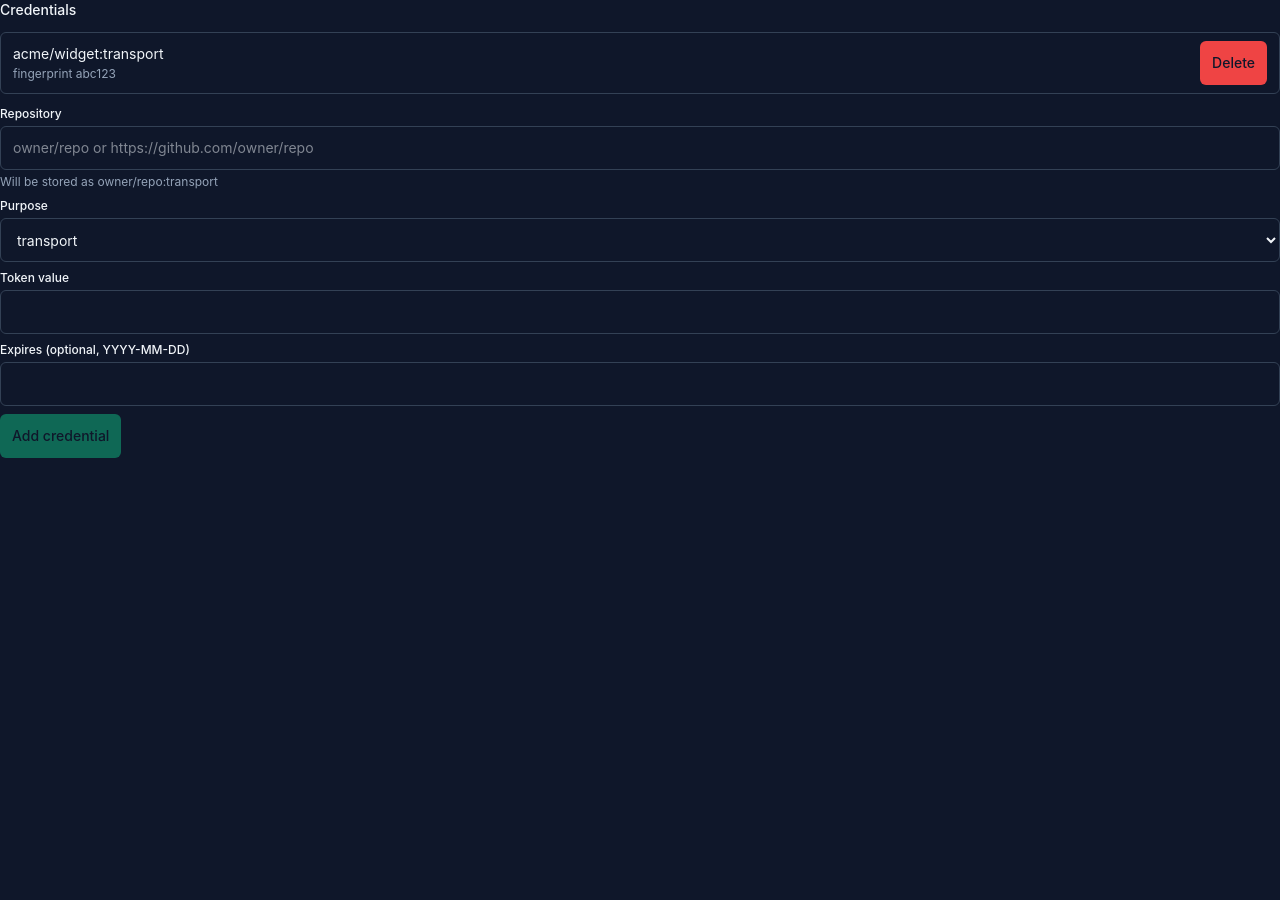
Scenario: CredentialsSection › delete: opens a confirm dialog, cancel leaves the record, confirm deletes with engine/purpose split from the name
Check: the list item with test id "credential-row-acme/widget:transport" is shown, box 0,32 -> 1279,94
What coordinates should you click on to do the following:
click the button with test id "credential-row-acme/widget:transport-delete"
I would click on:
 (1234, 63)
Its box is 1200,41 -> 1267,85.
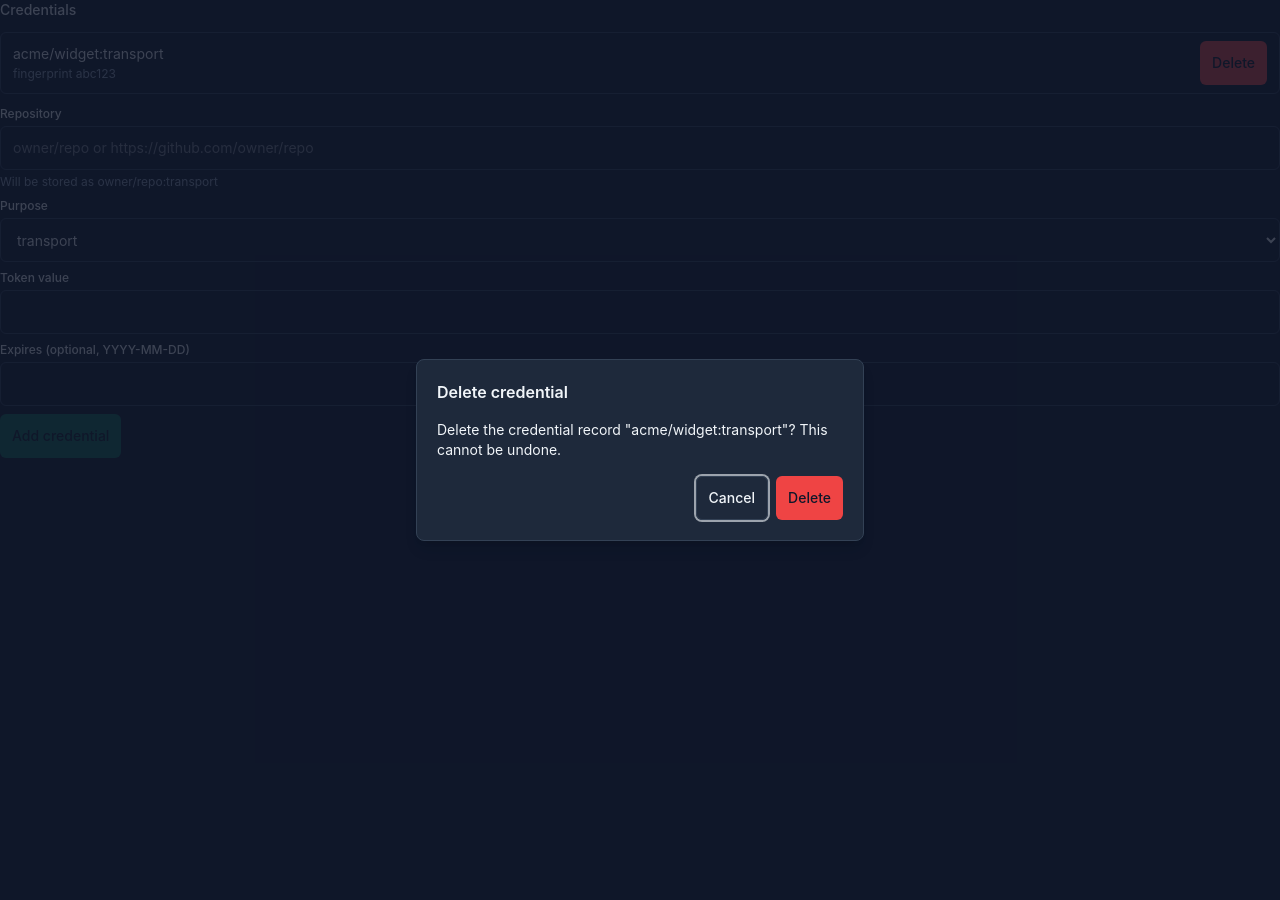
Check: the dialog with test id "credential-delete-confirm" is shown, box 416,359 -> 864,541
What coordinates should you click on to do the following:
click the button "Cancel"
I would click on:
 (732, 498)
Its box is 696,476 -> 768,520.
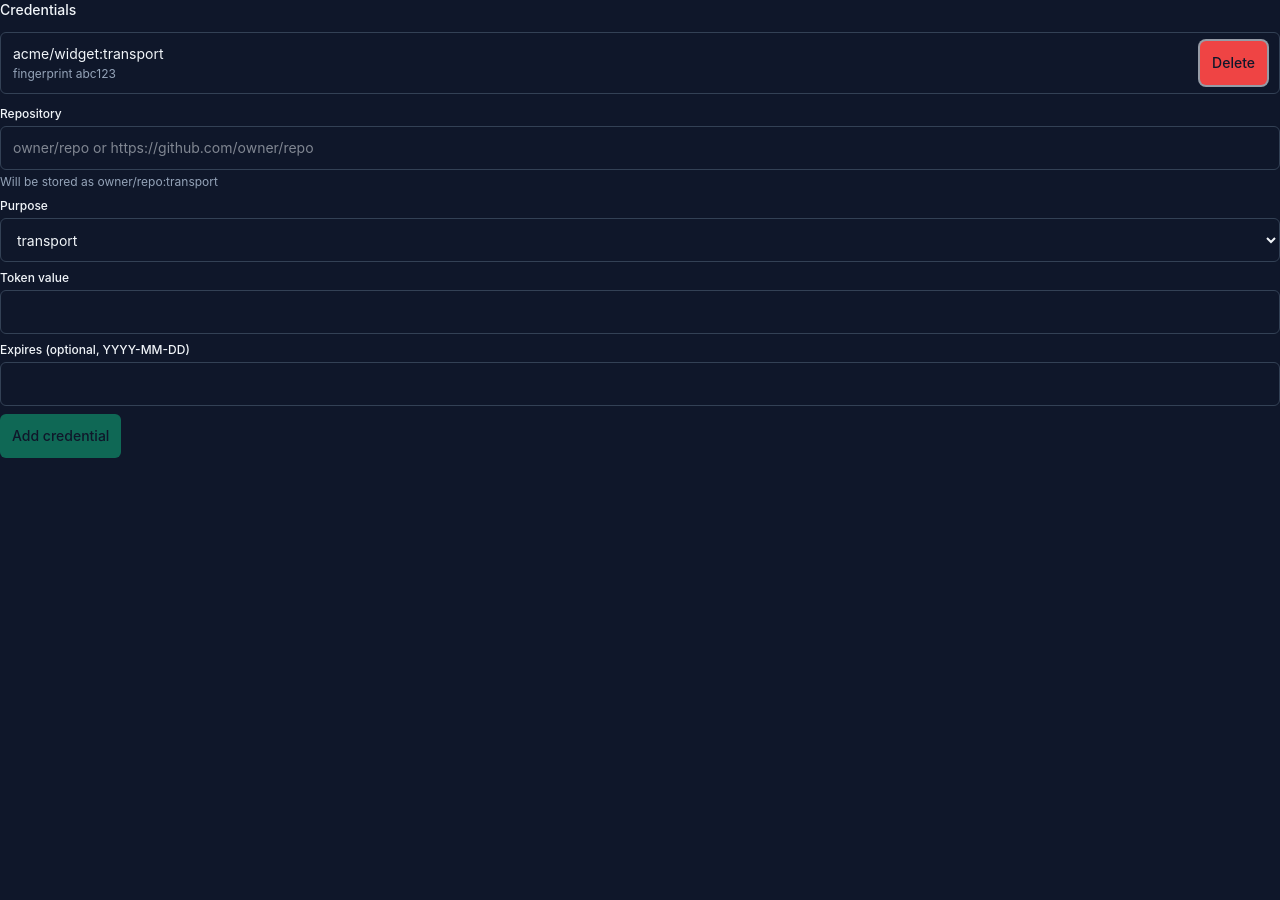
Check: the list item with test id "credential-row-acme/widget:transport" is shown, box 0,32 -> 1279,94
Check: the dialog with test id "credential-delete-confirm" is gone
What coordinates should you click on to do the following:
click the button with test id "credential-row-acme/widget:transport-delete"
I would click on:
 (1234, 63)
Its box is 1200,41 -> 1267,85.
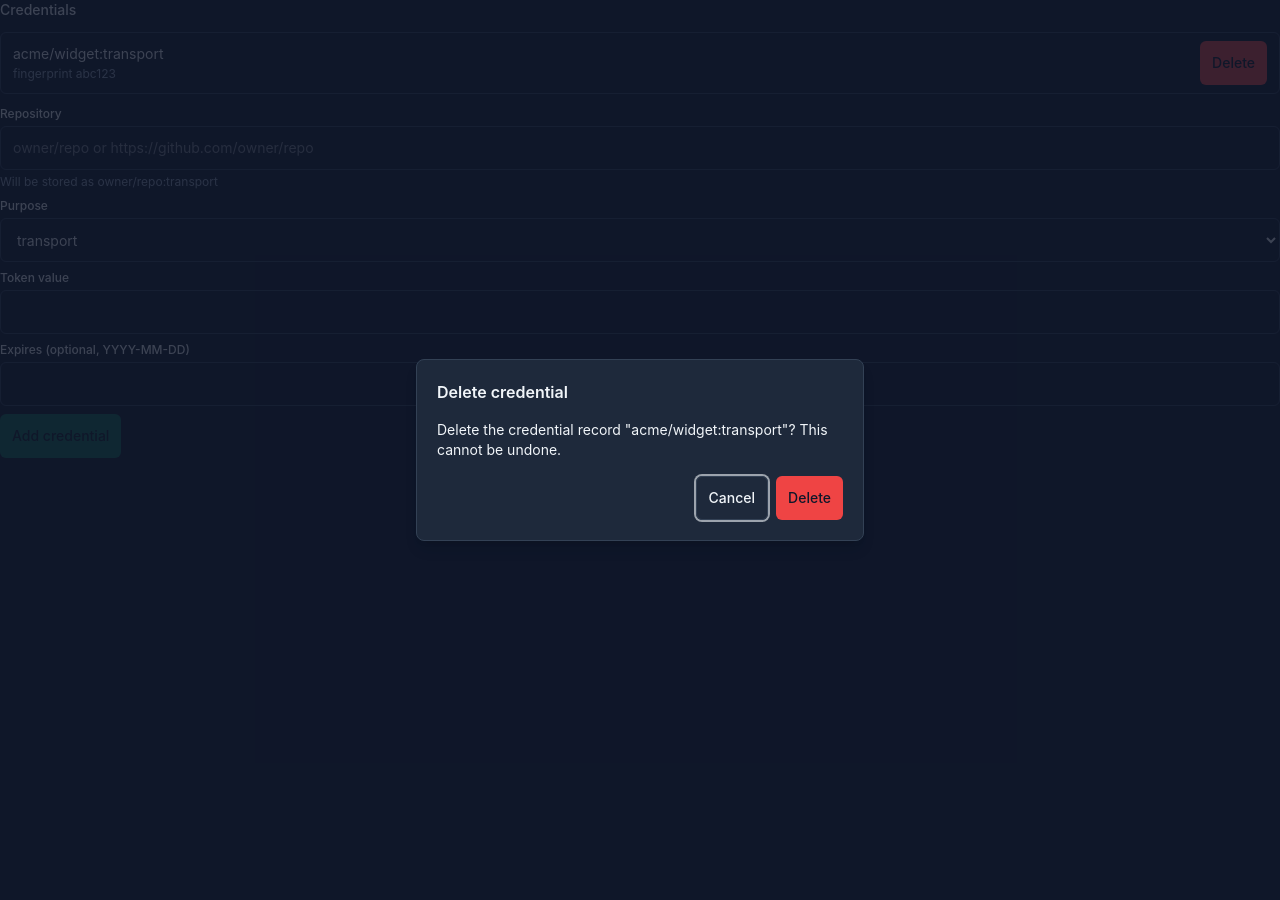
What coordinates should you click on to do the following:
click the button "Delete"
I would click on:
 (810, 498)
Its box is 776,476 -> 843,520.
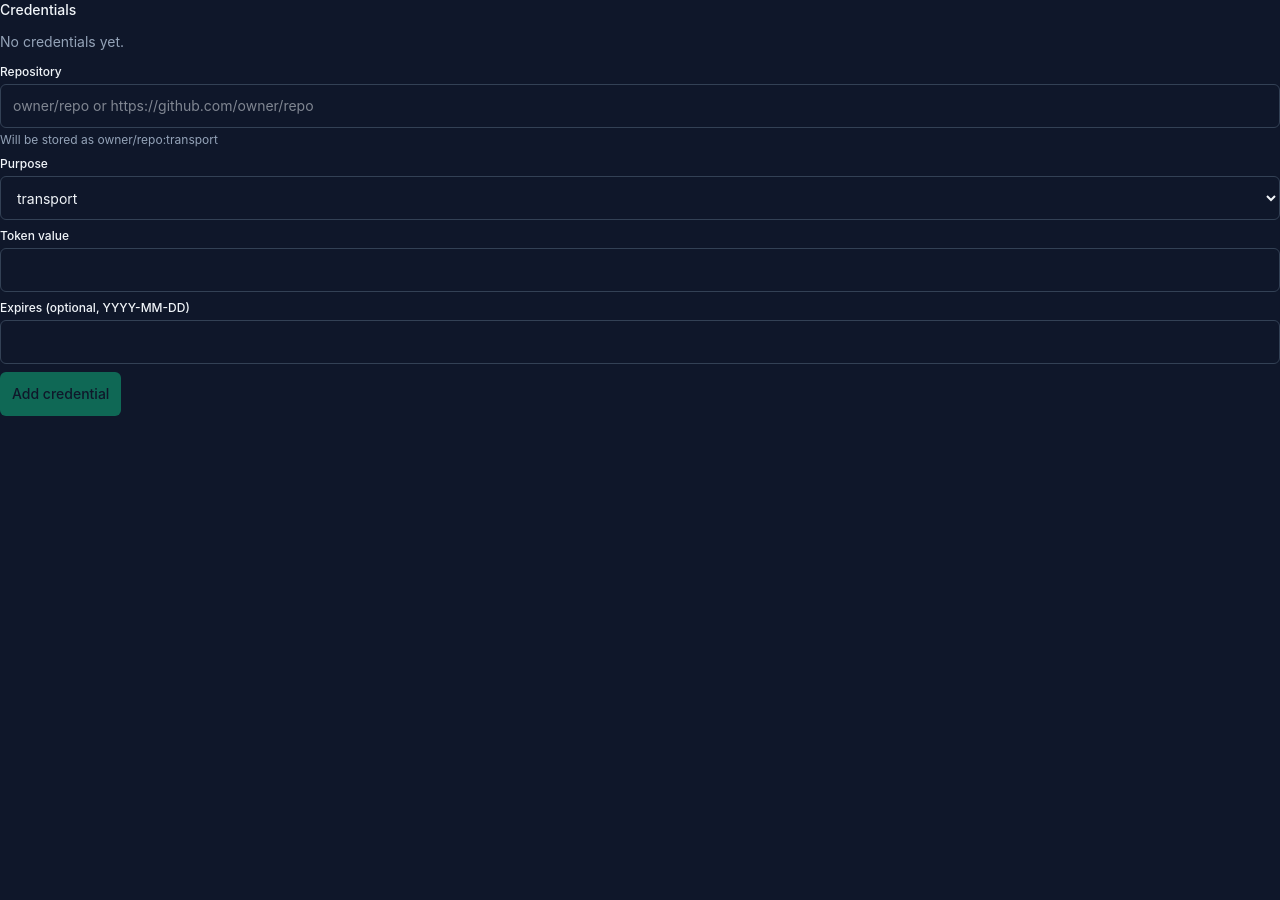
Check: the text "No credentials yet." is shown, box 0,33 -> 124,50
